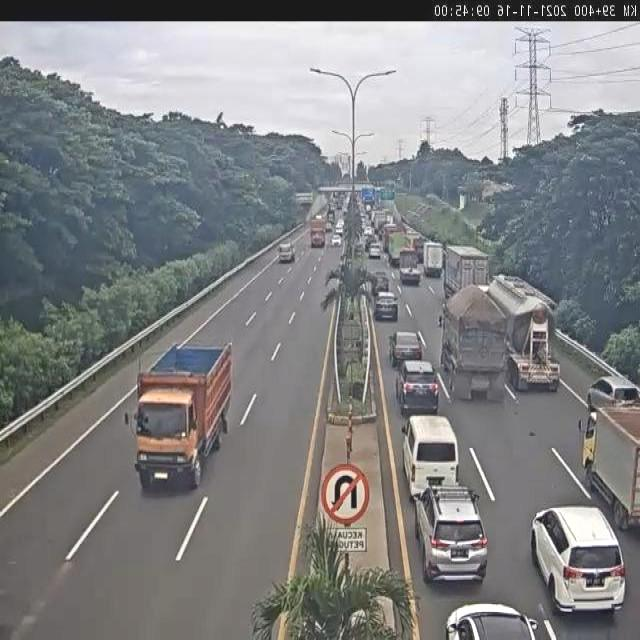Car: (533, 505, 628, 615), (417, 486, 489, 585), (401, 413, 461, 495), (446, 599, 536, 640), (397, 359, 438, 411), (588, 366, 640, 404), (391, 334, 426, 363), (373, 290, 398, 322), (276, 239, 296, 264), (372, 272, 389, 293), (369, 241, 382, 258), (332, 234, 340, 249)
Truck: (121, 341, 232, 493), (488, 274, 559, 392), (576, 400, 640, 526), (439, 288, 506, 400), (444, 244, 488, 297), (399, 248, 421, 290), (305, 217, 327, 249), (423, 242, 443, 276)
